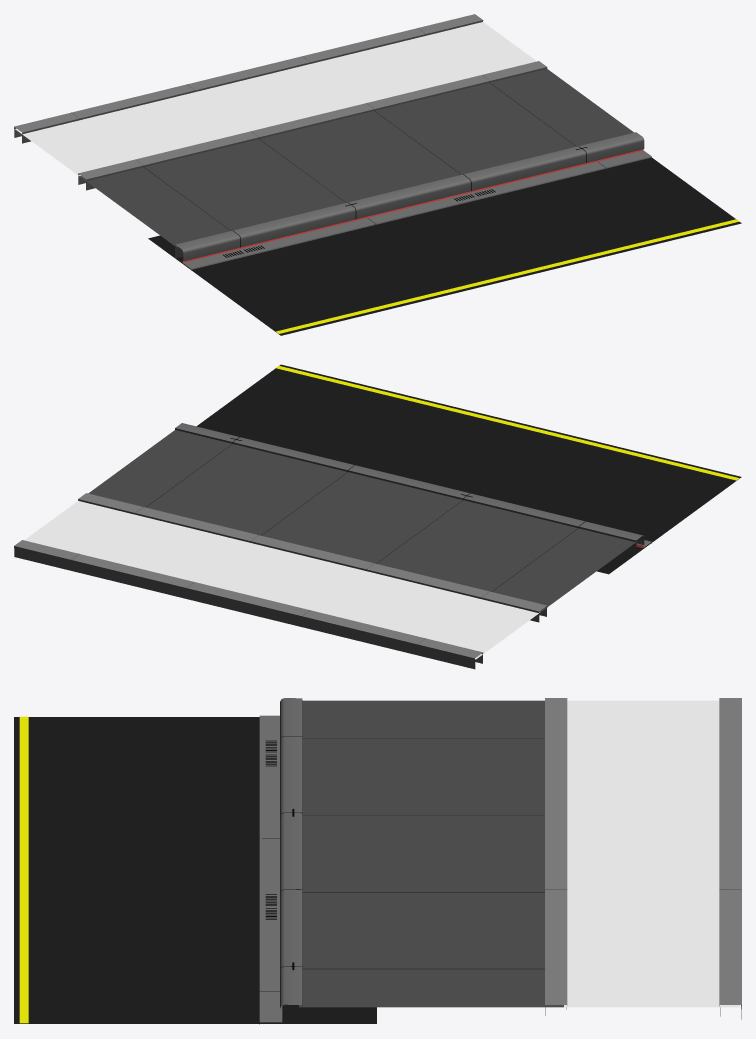
3 views of the same model, one above another, from view 1: azimuth 30°, elevation 25°; view 2: azimuth 150°, elevation 25°; view 3: azimuth 270°, elevation 25° (orthographic). The views are drawn at different scales.
Visible parts, largest first — view 1: W_R_001_8x8_A_L1; view 2: W_R_001_8x8_A_L1; view 3: W_R_001_8x8_A_L1.
Boxes of the visible parts, x1,y1,x2,y2 form: W_R_001_8x8_A_L1: (14, 14, 741, 335); W_R_001_8x8_A_L1: (14, 364, 741, 669); W_R_001_8x8_A_L1: (14, 698, 741, 1024).
Size of the model in its own units: 8 by 0.2465 by 8.02.
